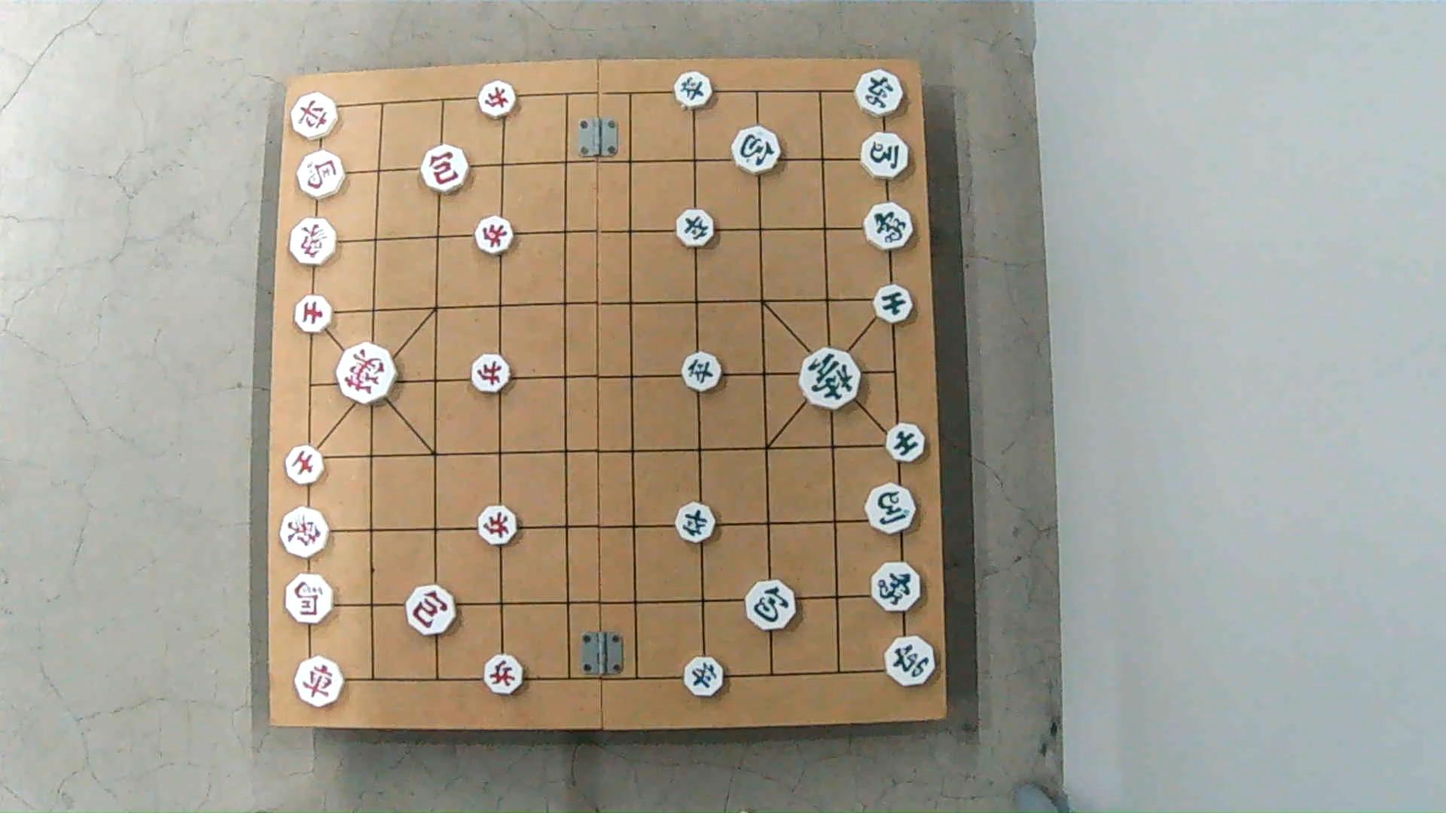cha_green: (883, 640, 936, 687), (853, 72, 904, 116)
cha_red: (295, 659, 347, 705), (291, 94, 342, 137)
jol_green: (685, 659, 728, 697), (676, 506, 718, 543), (672, 210, 716, 245), (679, 353, 721, 389), (672, 72, 714, 105)
jol_red: (483, 655, 526, 698), (476, 509, 519, 545), (470, 357, 514, 391), (473, 219, 516, 253), (477, 84, 518, 117)
ma_green: (866, 486, 919, 532), (861, 133, 913, 178)
ma_red: (286, 576, 336, 623), (297, 152, 346, 196)
po_green: (746, 582, 801, 631), (731, 126, 784, 175)
po_red: (405, 587, 459, 634), (419, 146, 470, 192)
sa_green: (883, 426, 926, 463), (872, 285, 911, 322)
sa_red: (285, 445, 323, 485), (295, 297, 336, 332)
sang_green: (871, 565, 924, 611), (865, 206, 917, 249)
sang_red: (280, 510, 331, 556), (288, 220, 337, 264)
wang_green: (795, 351, 861, 407)
wang_red: (337, 346, 400, 402)
